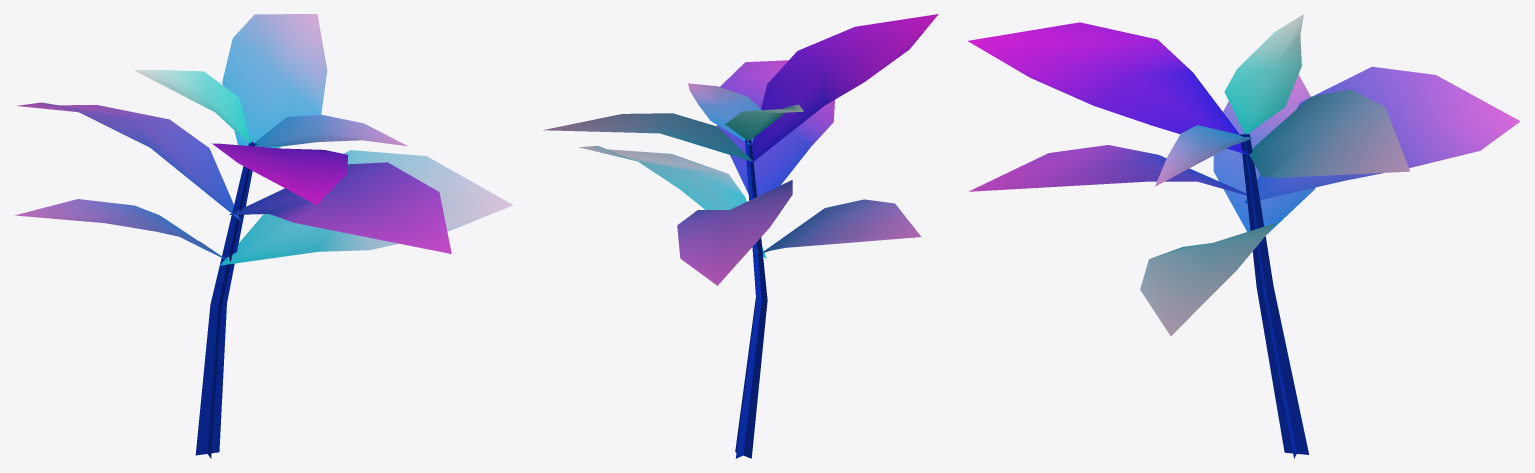
File: Common_Hemp_Nettle_xh1kdfbqx_Mid_xh1kdfbqx_VarA_LOD1.fbx
The picture shows the model from 3 angles, left to right: view 1: azimuth 30°, elevation 25°; view 2: azimuth 150°, elevation 25°; view 3: azimuth 270°, elevation 25°; orthographic projection. The views are drawn at different scales.
Parts seen in each view (by area): view 1: _1ngv_VarA_LOD3; view 2: _1ngv_VarA_LOD3; view 3: _1ngv_VarA_LOD3.
Boxes of the visible parts, x1=… form: _1ngv_VarA_LOD3: x1=15, y1=14, x2=513, y2=458; _1ngv_VarA_LOD3: x1=543, y1=14, x2=938, y2=458; _1ngv_VarA_LOD3: x1=968, y1=14, x2=1520, y2=458.
Bounding box in the file's own units: 43.57 × 37.81 × 46.83.
